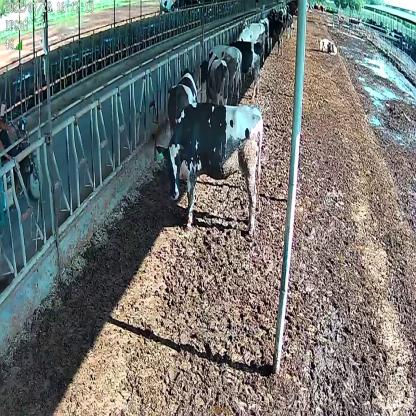cow: (155, 100, 264, 237), (168, 64, 198, 131), (203, 51, 229, 107), (318, 37, 337, 57)
